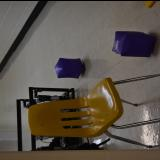cone: (144, 0, 156, 7)
cube: (111, 29, 157, 56), (54, 57, 85, 78)
